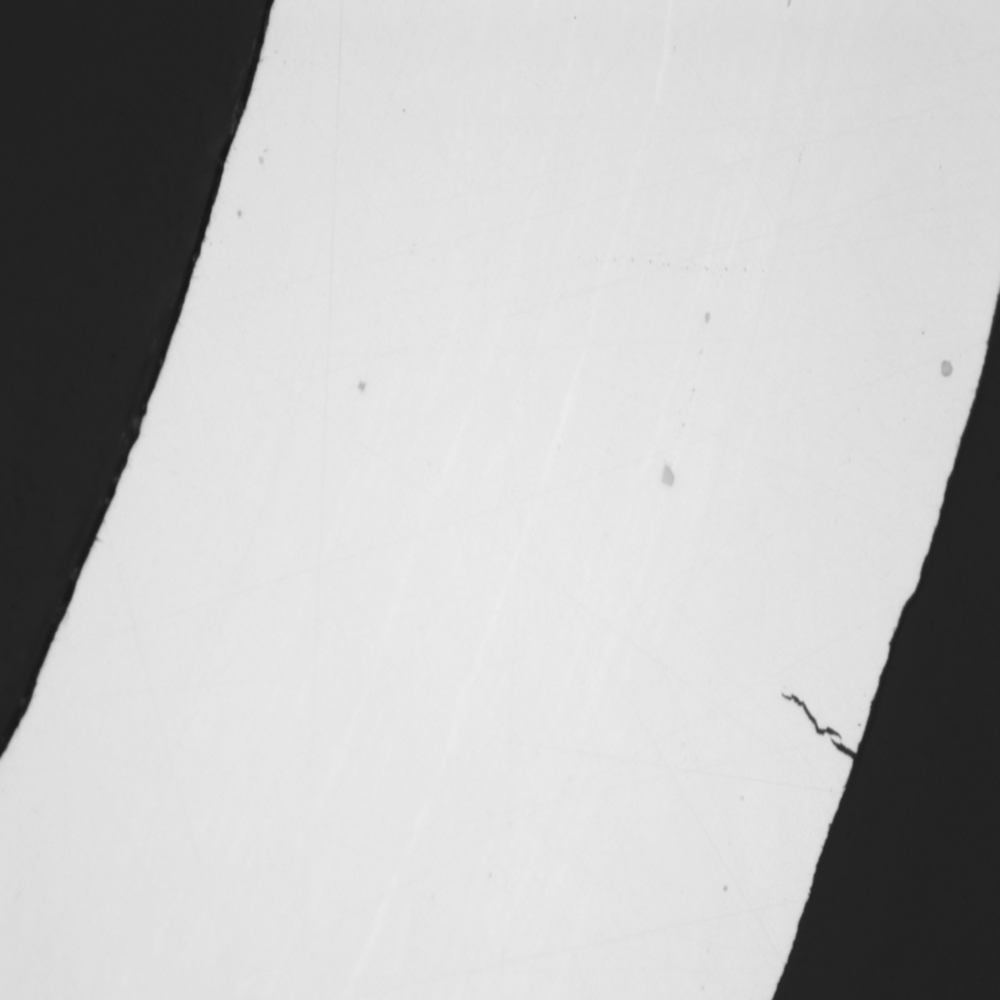crack: (769, 654, 860, 777)
